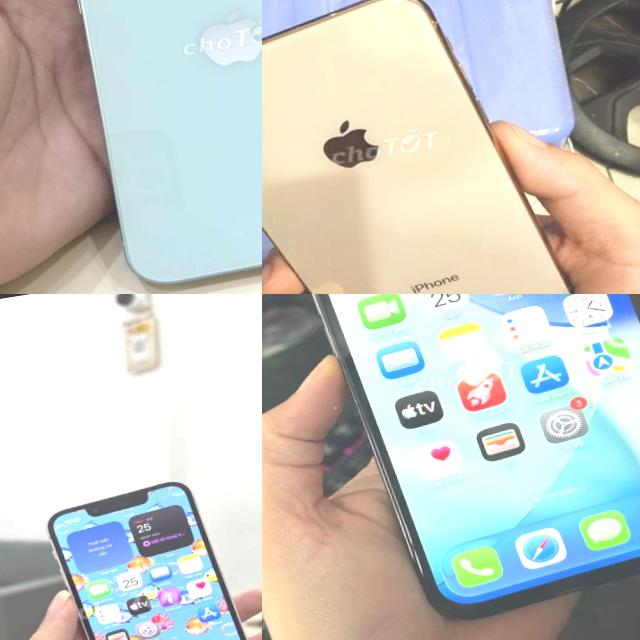gen_12_13: (262, 294, 640, 640), (40, 0, 262, 294), (37, 463, 262, 640)
gen_x_xs: (262, 0, 570, 294)
